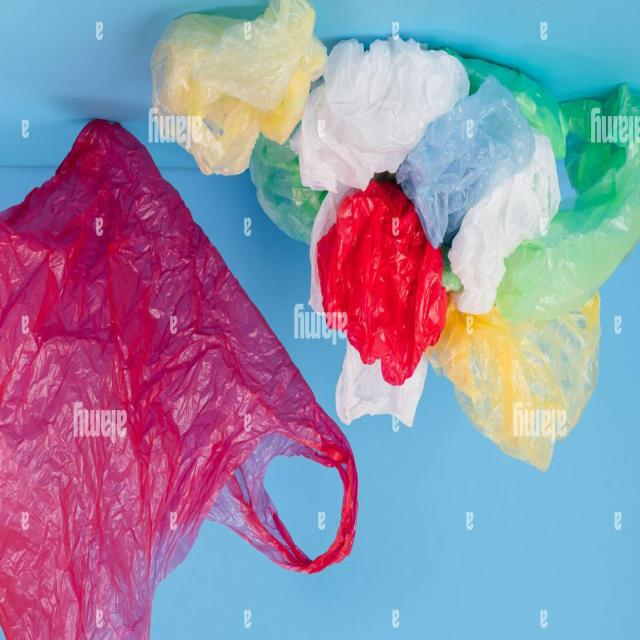Single-layer Plastic: (0, 120, 358, 639), (291, 38, 469, 312), (496, 84, 640, 322), (151, 0, 326, 175), (428, 294, 600, 471), (318, 181, 448, 385), (396, 76, 535, 248), (449, 132, 560, 314), (442, 48, 566, 158), (249, 135, 326, 243), (336, 342, 428, 426)
